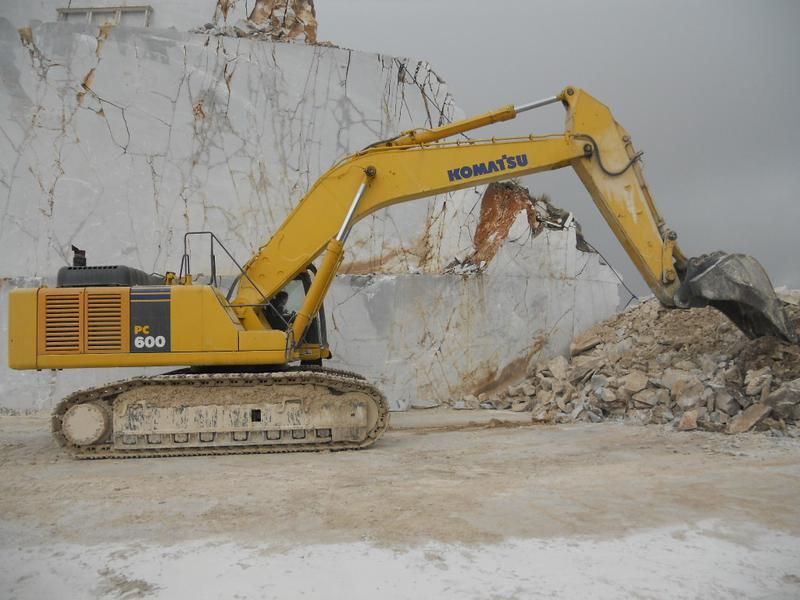shovel: (3, 80, 797, 463)
